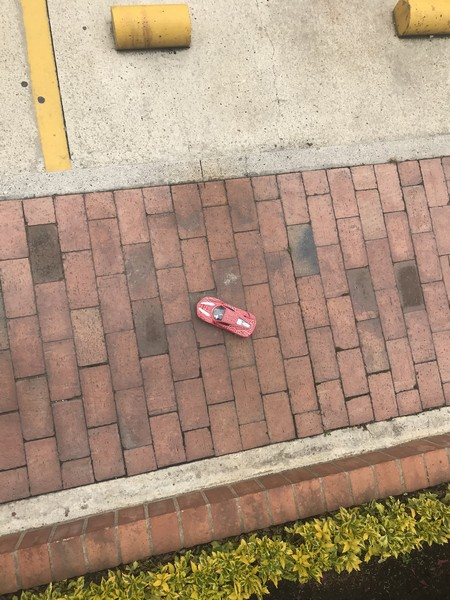RC: (194, 295, 259, 341)
